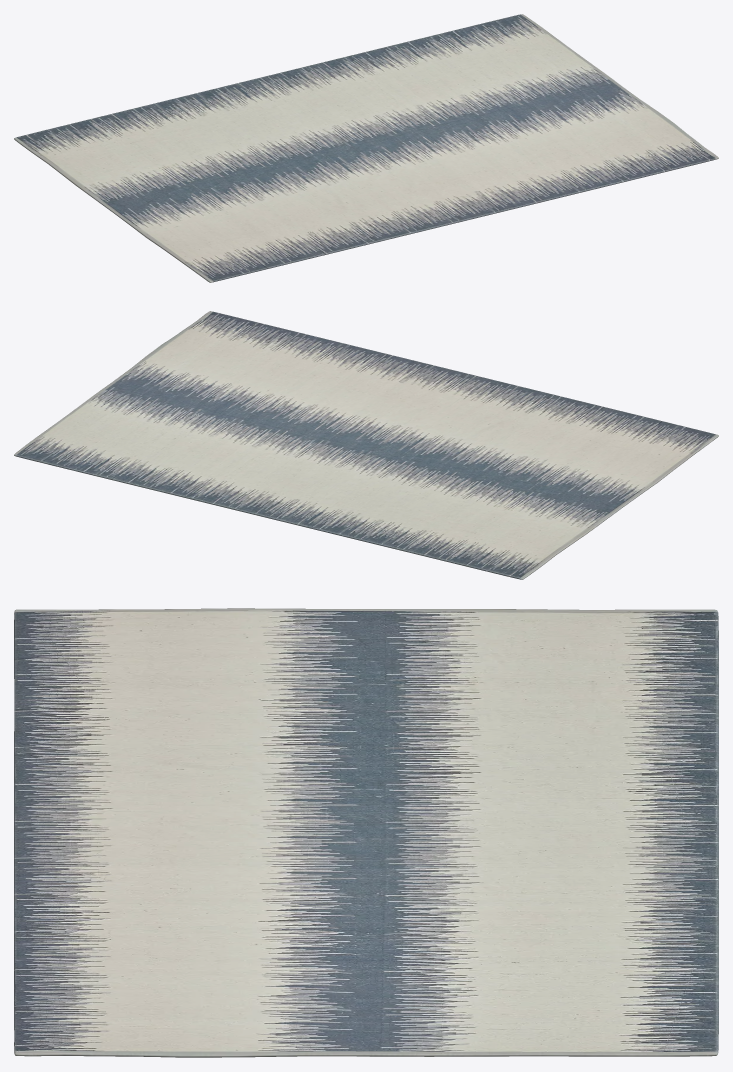
The picture shows the model from 3 angles, top to bottom: view 1: azimuth 30°, elevation 25°; view 2: azimuth 150°, elevation 25°; view 3: azimuth 270°, elevation 25°; orthographic projection. The views are drawn at different scales.
Visible parts, largest first — view 1: RootNode; view 2: RootNode; view 3: RootNode.
Boxes of the visible parts, box(x1,y1,x2,y2) form: RootNode: box(14, 14, 718, 282); RootNode: box(14, 311, 718, 579); RootNode: box(14, 608, 718, 1057).
Size of the model in its own units: 1.85 by 0.00566 by 1.23.
Materials: 1 (1 with a texture image).
